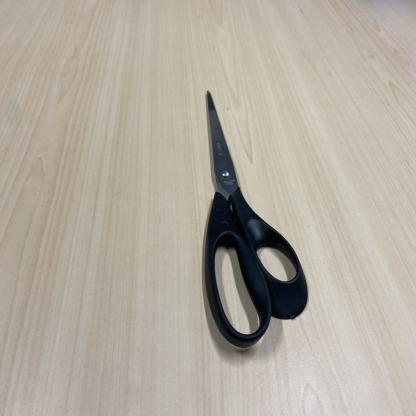scissors: (196, 92, 310, 350)
